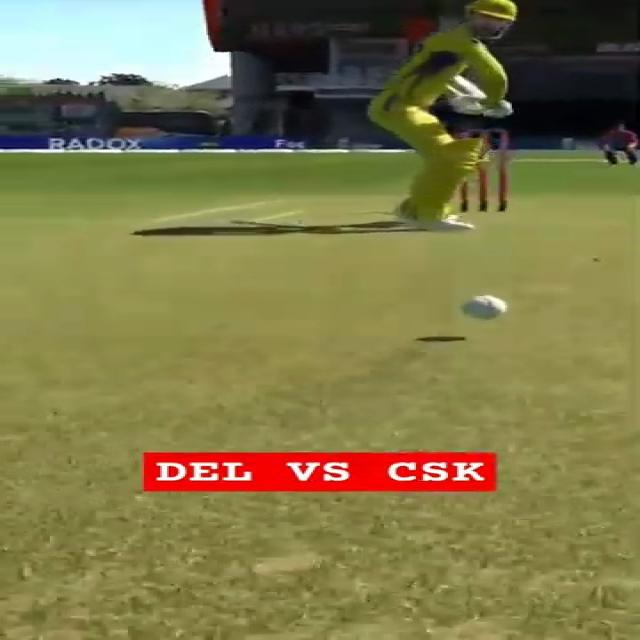ball: (459, 294, 510, 321)
